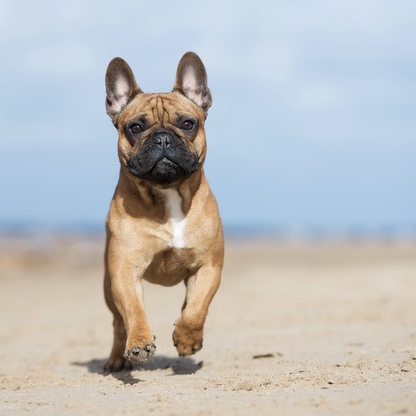bulldog: (97, 54, 226, 372)
